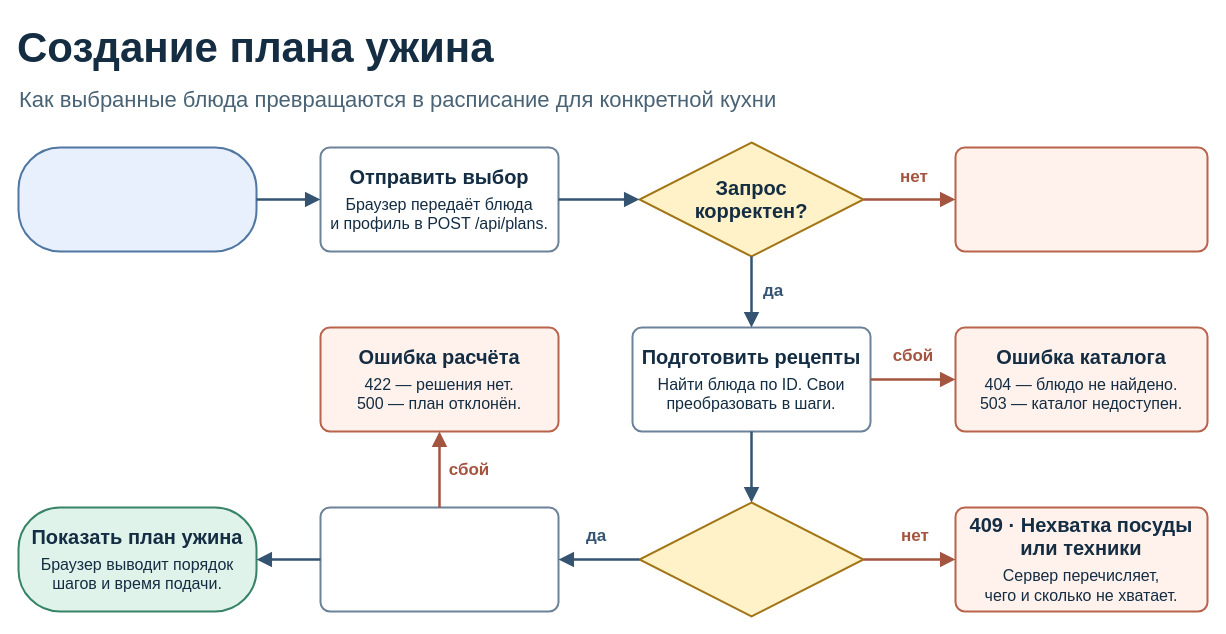
The diagram is 1226 pixels wide and 634 high, and some of its shapes have lost their labels. The shapes that lost their labels are listed below. From the top down, each one's centre as x and y in pixels, then its label:
At (137,199): "Выбрать 2–3 блюда Из каталога или свои. Указать оснащение кухни.".
At (1081,199): "422 · Ошибка ввода Сервер указывает поле, которое нужно исправить.".
At (439,559): "Построить расписание Scheduler размещает шаги. PlanValidator проверяет план.".
At (751,559): "Хватает оснащения?".
